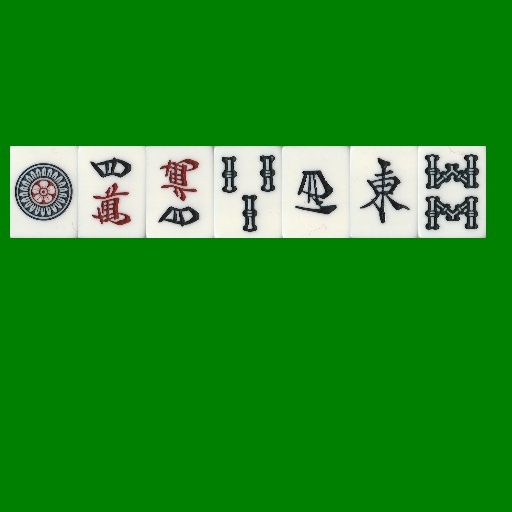1p: (10, 146, 78, 238)
3s: (214, 146, 282, 238)
4m: (78, 146, 146, 238), (146, 146, 214, 238)
8s: (418, 146, 486, 238)
east: (350, 146, 418, 238)
west: (282, 146, 350, 238)
